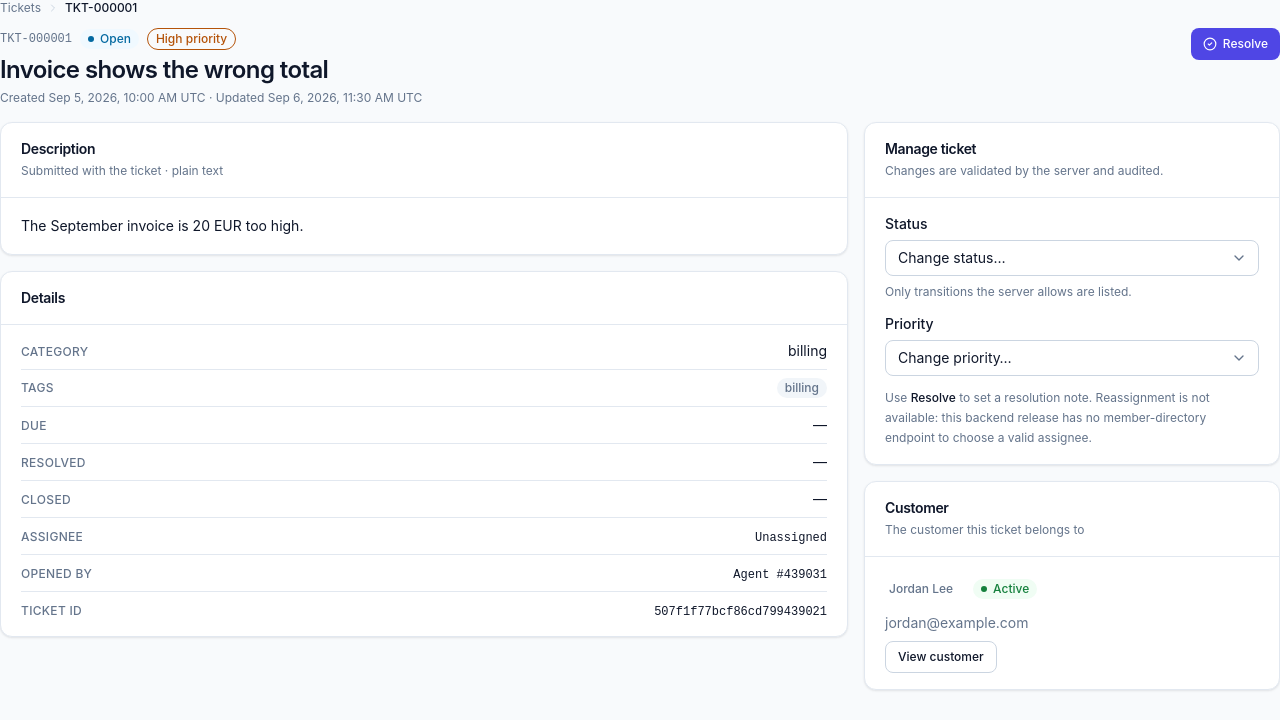
Test case: TicketDetailPage › resolves with a note and closes the dialog
Expected: the heading "Invoice shows the wrong total" is shown, [0, 55, 328, 84]
Click the button "Resolve".
click(1235, 44)  # box [1191, 28, 1279, 60]
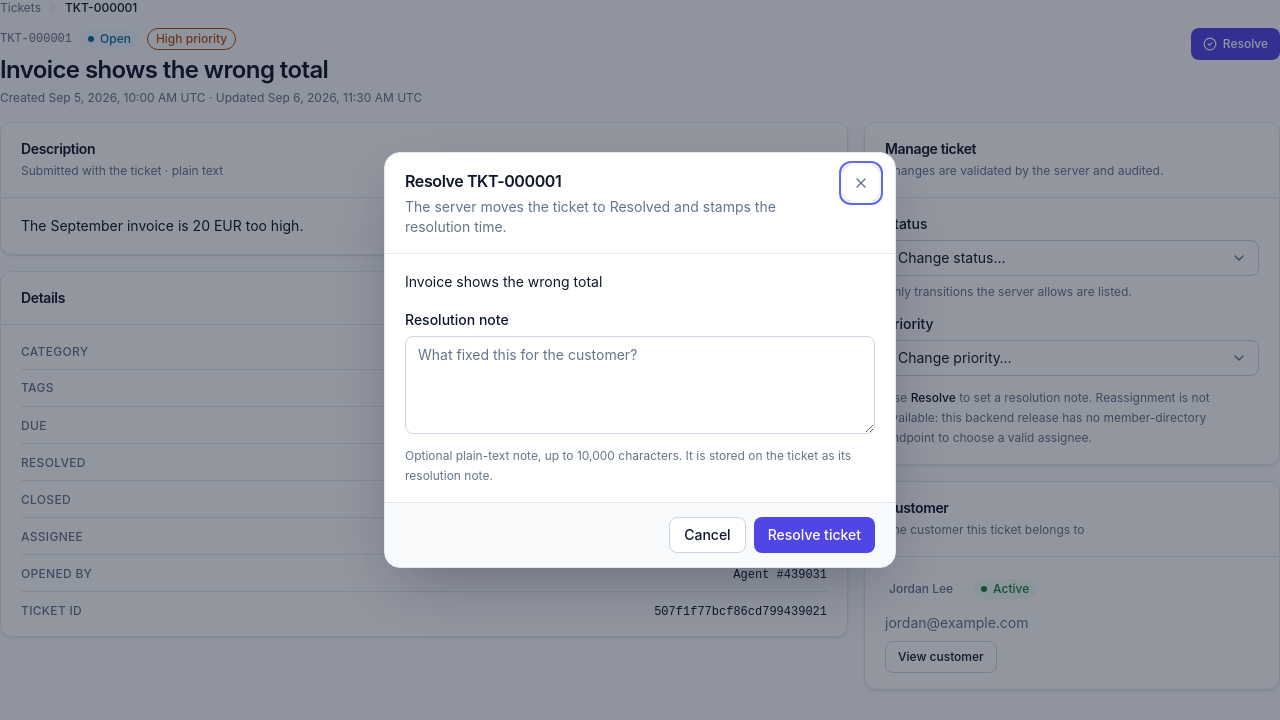
Type "Refunded the difference" into the text box labelled "Resolution note".
click(640, 385); type("Refunded the difference")  # box [405, 336, 875, 434]
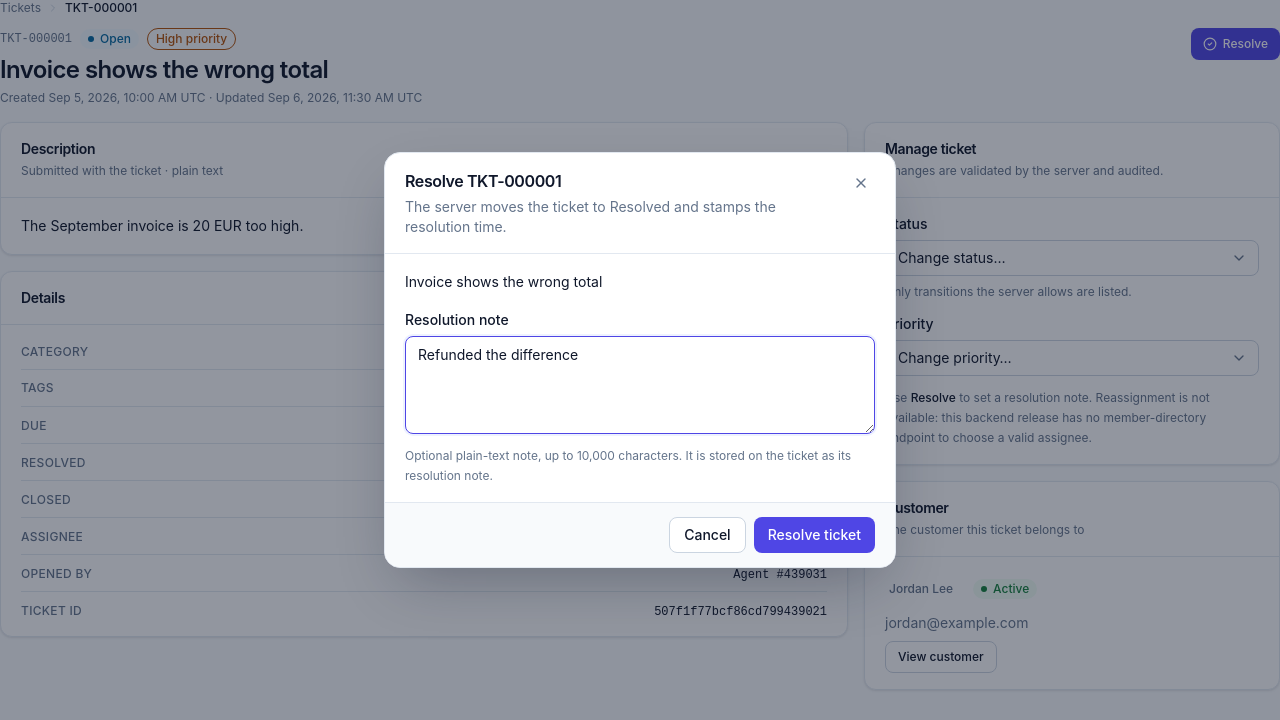
Click the button "Resolve ticket".
click(814, 535)  # box [754, 517, 875, 553]
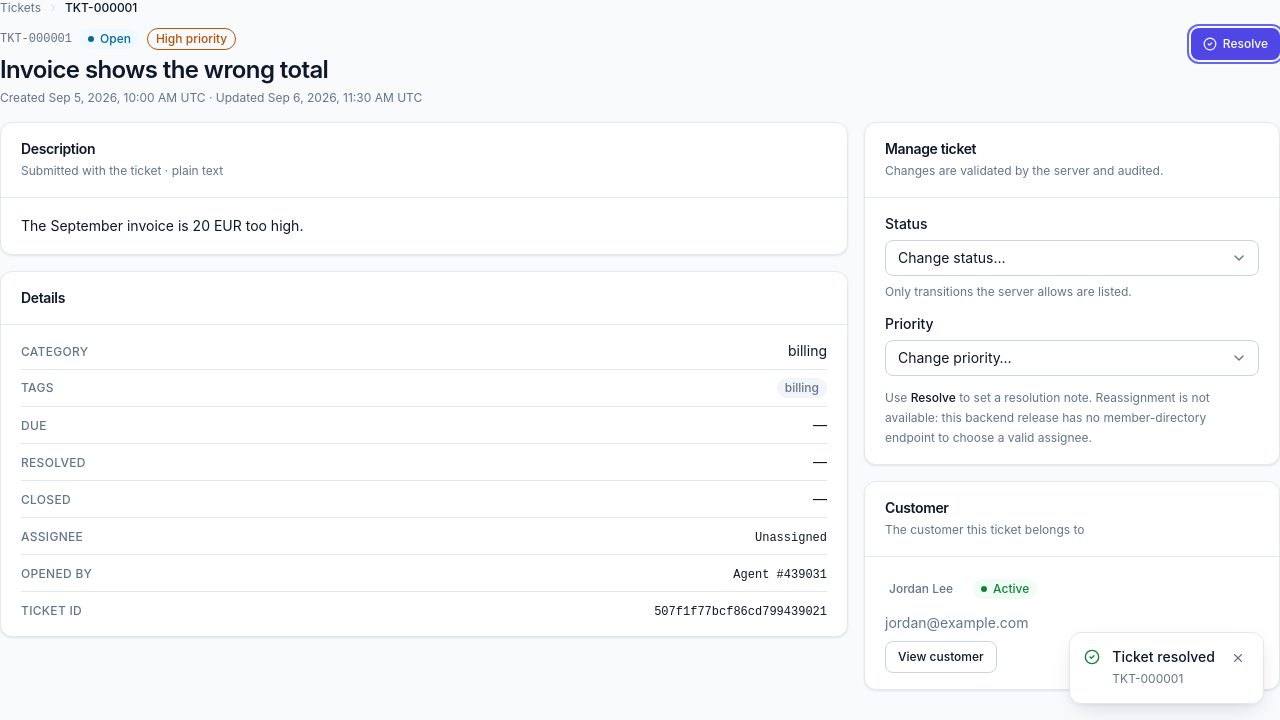
Result: the dialog is gone
